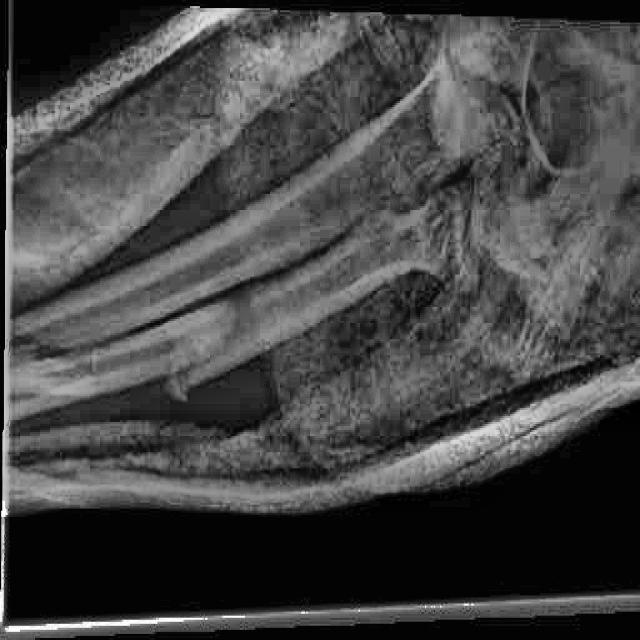forearm fracture: (43, 316, 121, 432), (152, 338, 214, 427)
